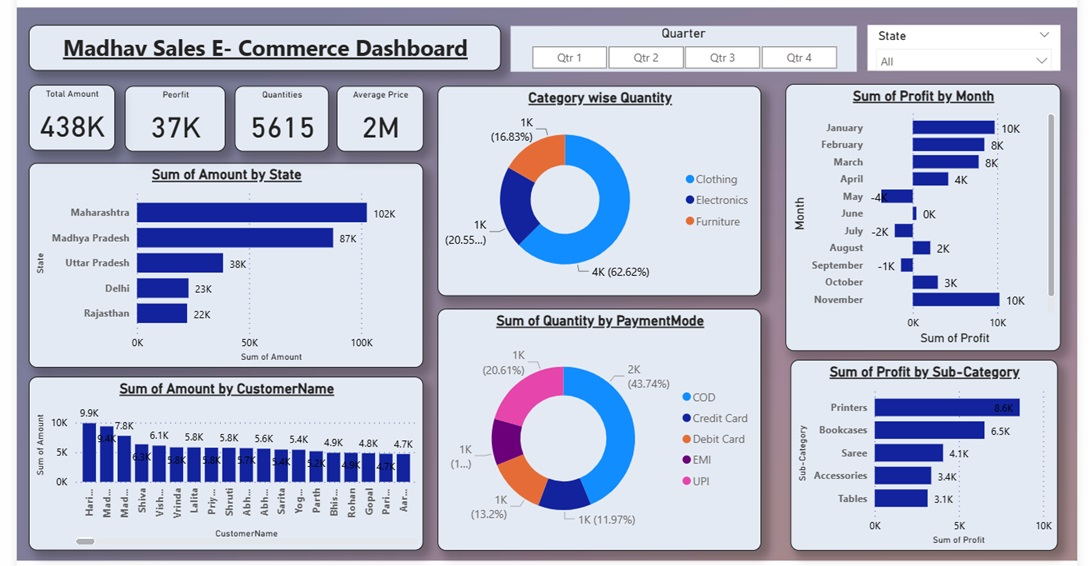

The page's visual inventory and layout, read from the dashboard file:
{"tool":"powerbi","page":{"name":"Page 1","canvas":[1280,720],"ordinal":0},"visuals":[{"type":"barChart","fields":{"Category":["Orders.Order Date.Variation.Date Hierarchy.Month"],"Y":["Details.Profit"]},"box":[927.4,115.8,331.7,322],"z":0},{"type":"textbox","box":[14.5,44.6,569.2,55.5],"z":1000},{"type":"barChart","fields":{"Y":["Details.Profit"],"Category":["Details.Sub-Category"]},"box":[933.5,448.6,322,230.4],"z":2000},{"type":"barChart","fields":{"Category":["Orders.State"],"Y":["Details.Amount"]},"box":[14.5,211.1,476.4,247.2],"z":3000},{"type":"clusteredColumnChart","fields":{"Category":["Orders.CustomerName"],"Y":["Details.Amount"]},"box":[14.5,469.1,476.4,209.8],"z":4000},{"type":"donutChart","title":"Category wise Quantity","fields":{"Category":["Details.Category"],"Y":["Details.Quantity"]},"box":[507.7,118.2,390.8,253.3],"z":5000},{"type":"donutChart","fields":{"Y":["Details.Quantity"],"Series":["Details.PaymentMode"]},"box":[507.7,387.1,390.8,291.9],"z":6000},{"type":"card","title":"Peorfit","fields":{"Values":["Details.Profit"]},"box":[130.3,118.2,121.8,79.6],"z":7000},{"type":"card","title":"Quantities","fields":{"Values":["Details.Quantity"]},"box":[262.9,118.2,113.4,79.6],"z":8000},{"type":"card","title":"Average Price","fields":{"Values":["Details.Average amount"]},"box":[385.9,118.2,104.9,79.6],"z":9000},{"type":"slicer","title":"Quarter","fields":{"Values":["Orders.Order Date.Variation.Date Hierarchy.Quarter"]},"box":[595.8,45.8,417.3,55.5],"z":10000},{"type":"slicer","fields":{"Values":["Orders.State"]},"box":[1026.3,44.6,232.8,55.5],"z":11000},{"type":"card","title":"Total Amount","fields":{"Values":["Details.Amount"]},"box":[14.5,117,103.7,79.6],"z":12000}]}

Visuals, with their boxes in screenshot pixels (x1, y1, x2, y2):
barChart - Orders.Order Date.Variation.Date Hierarchy.Month x Details.Profit: <box>783,65,1058,333</box>
textbox: <box>23,6,497,52</box>
barChart - Details.Profit x Details.Sub-Category: <box>788,342,1055,533</box>
barChart - Orders.State x Details.Amount: <box>23,144,420,350</box>
clusteredColumnChart - Orders.CustomerName x Details.Amount: <box>23,359,420,533</box>
"Category wise Quantity" donutChart: <box>434,67,759,278</box>
donutChart - Details.Quantity x Details.PaymentMode: <box>434,291,759,533</box>
"Peorfit" card: <box>120,67,221,133</box>
"Quantities" card: <box>230,67,324,133</box>
"Average Price" card: <box>332,67,420,133</box>
"Quarter" slicer: <box>507,7,854,53</box>
slicer - Orders.State: <box>865,6,1058,52</box>
"Total Amount" card: <box>23,66,110,132</box>
